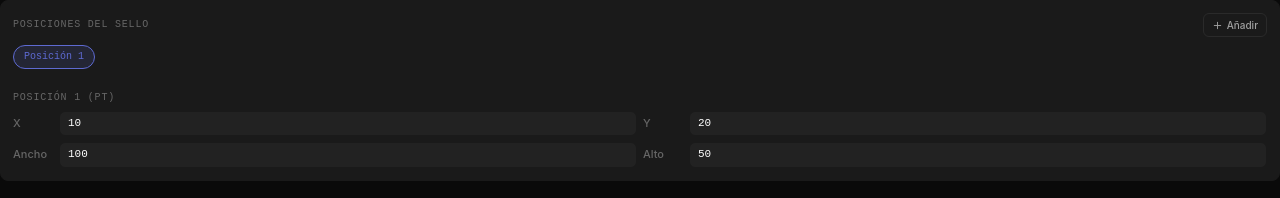
PositionPanel numeric rect fields › reports each typed value and keeps the draft until blur
Replace the text in the number field named "Posición 1: Ancho en puntos" with "5" at x=348, y=155, box [59,142,637,168]
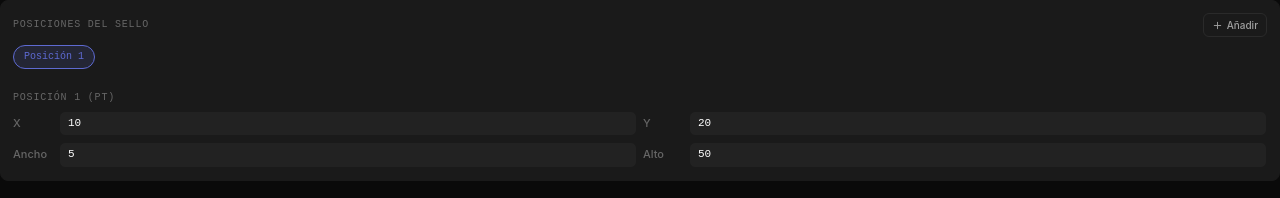
Leave the number field named "Posición 1: Ancho en puntos", box [59,142,637,168]
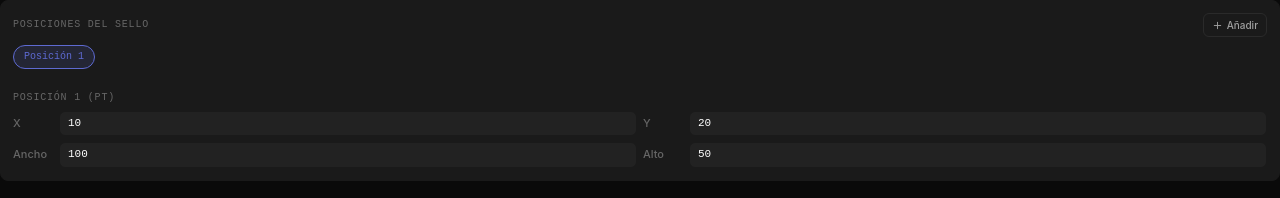
Now the number field named "Posición 1: Ancho en puntos" holds "100", box [59,142,637,168]
